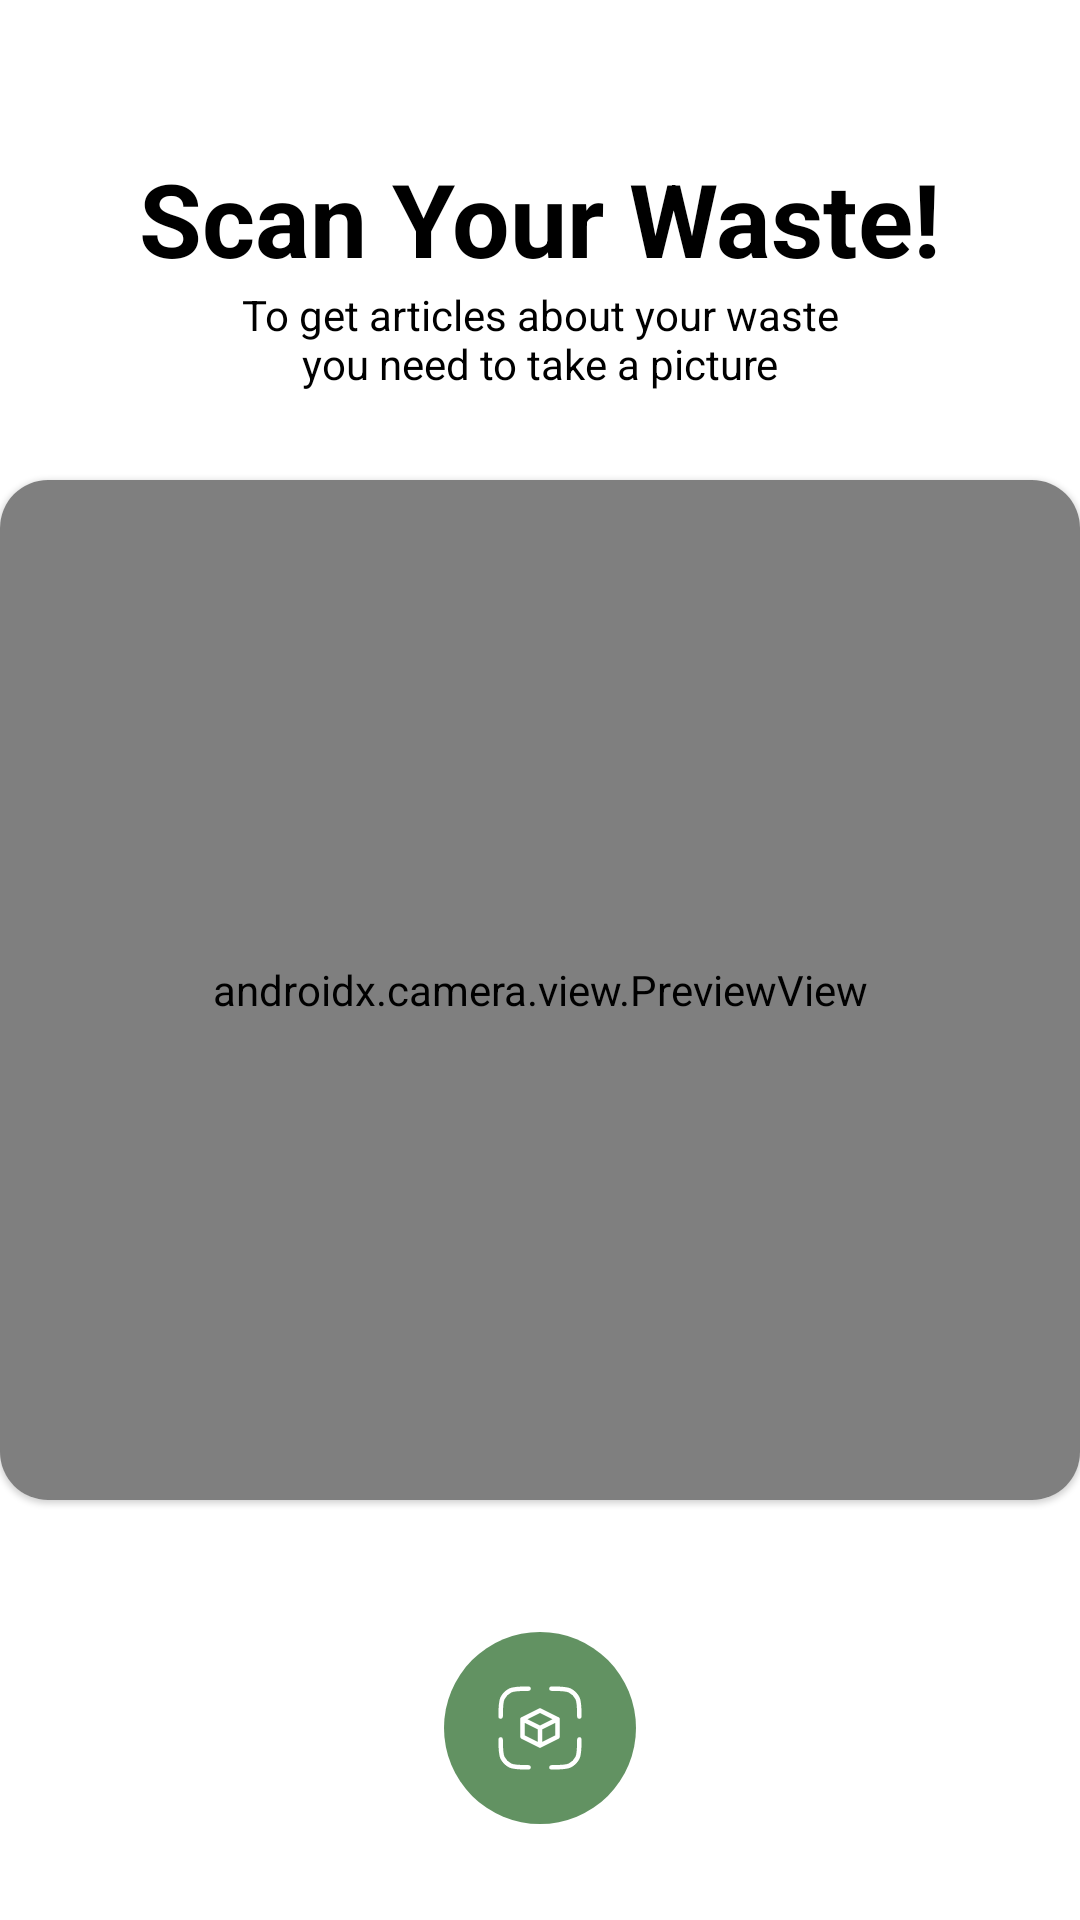

Screen size 1080x1920. Icon name, then its center in pixels as [x,y]:
capture: [540,1728]
